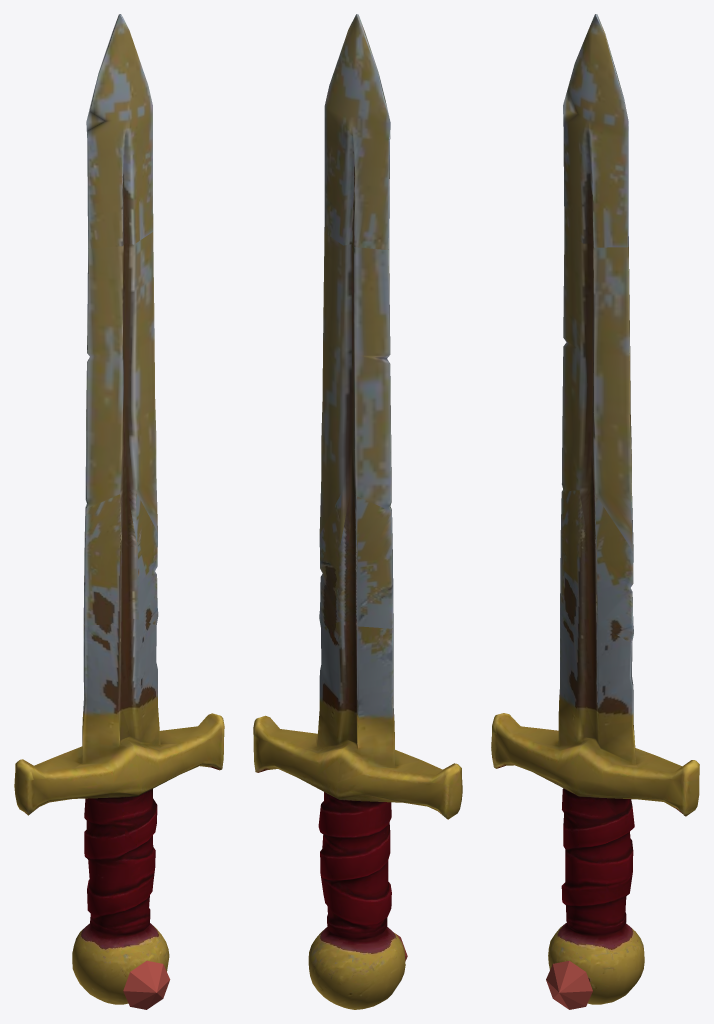
Rendered from sword_epic_deathless_crucible_heart.glb.
3 renders of one model, left to right at view 1: azimuth 30°, elevation 25°; view 2: azimuth 150°, elevation 25°; view 3: azimuth 330°, elevation 25°, orthographic.
Visible parts, largest first — view 1: tripo_node_97e2f97e-50ac-4141-868f-1e15ad3be5ce; view 2: tripo_node_97e2f97e-50ac-4141-868f-1e15ad3be5ce; view 3: tripo_node_97e2f97e-50ac-4141-868f-1e15ad3be5ce.
Part boxes in pixels (x1,y1,x2,y2): tripo_node_97e2f97e-50ac-4141-868f-1e15ad3be5ce: (14,14,224,1009); tripo_node_97e2f97e-50ac-4141-868f-1e15ad3be5ce: (253,14,462,1009); tripo_node_97e2f97e-50ac-4141-868f-1e15ad3be5ce: (491,14,699,1009).
Size of the model in its own units: 0.4407 by 2 by 0.2258.
1 material, 1 textured.
